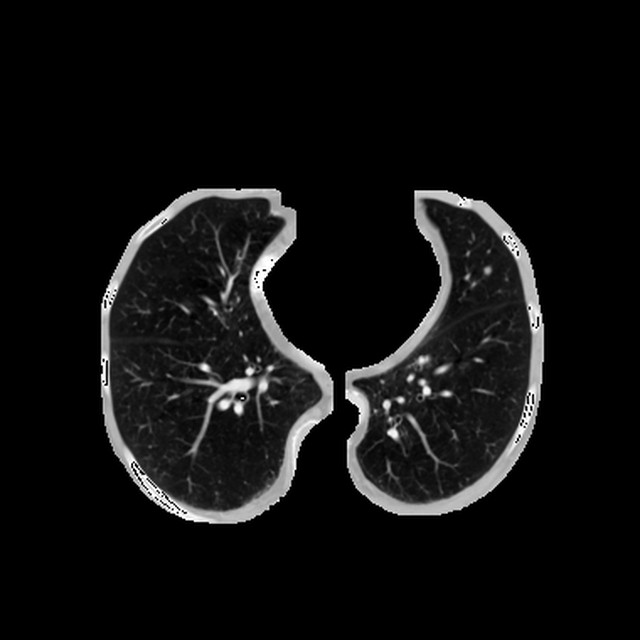PN: (482, 264, 492, 275)
